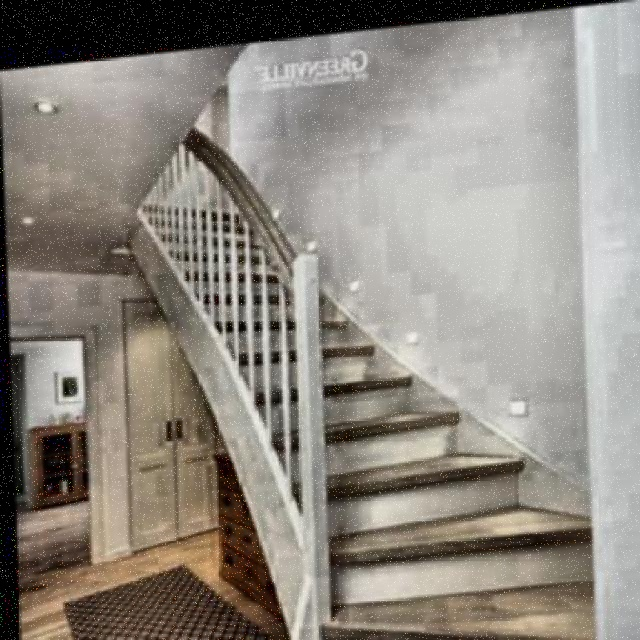stair: (192, 170, 614, 639)
